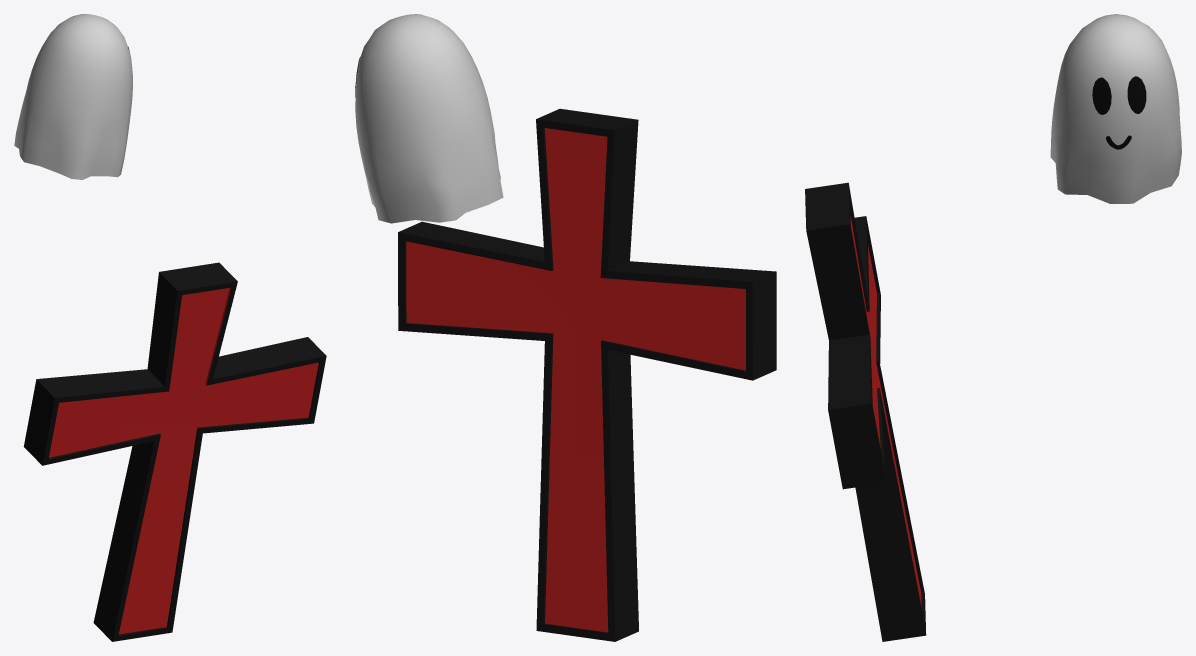
Rendered from grave_halloween_2023.obj.
The picture shows the model from 3 angles, left to right: view 1: azimuth 30°, elevation 25°; view 2: azimuth 150°, elevation 25°; view 3: azimuth 270°, elevation 25°; orthographic projection. The views are drawn at different scales.
Parts seen in each view (by area): view 1: 1, 0, 2; view 2: 1, 0, 2; view 3: 0, 2, 1, 3.
Boxes of the visible parts, bbox=[...] form: 1: bbox=[49, 287, 318, 634]; 0: bbox=[23, 262, 326, 641]; 2: bbox=[14, 14, 132, 179]; 1: bbox=[406, 128, 745, 632]; 0: bbox=[398, 108, 776, 641]; 2: bbox=[355, 14, 503, 223]; 0: bbox=[805, 182, 926, 641]; 2: bbox=[1050, 14, 1181, 203]; 1: bbox=[850, 216, 921, 607]; 3: bbox=[1092, 76, 1146, 149].
Bounding box in the file's own units: 0.6189 × 1.13 × 0.6145.
